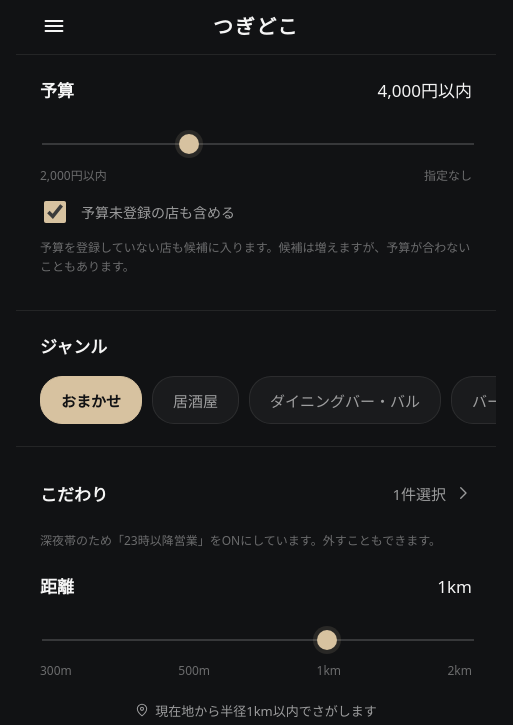
Test case: トップ画面 › 深夜帯の既定ONは外せる
Click the text "こだわり".
click(74, 493)  # box [40, 481, 108, 506]
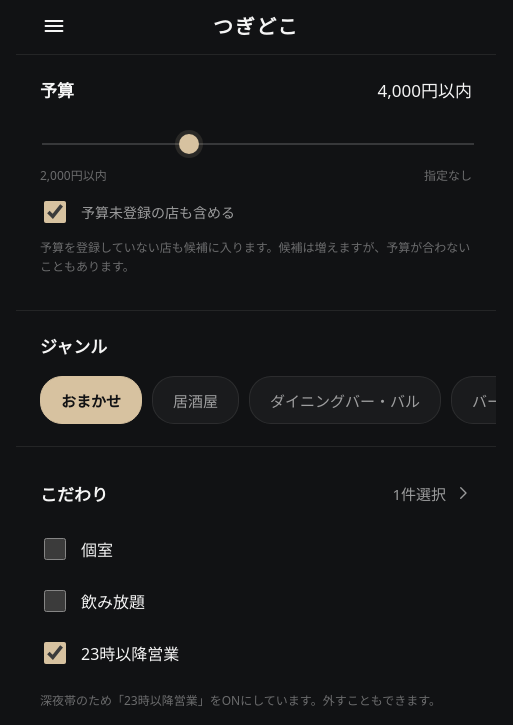
Click the checkbox labelled "23時以降営業".
click(55, 653)  # box [44, 642, 66, 664]
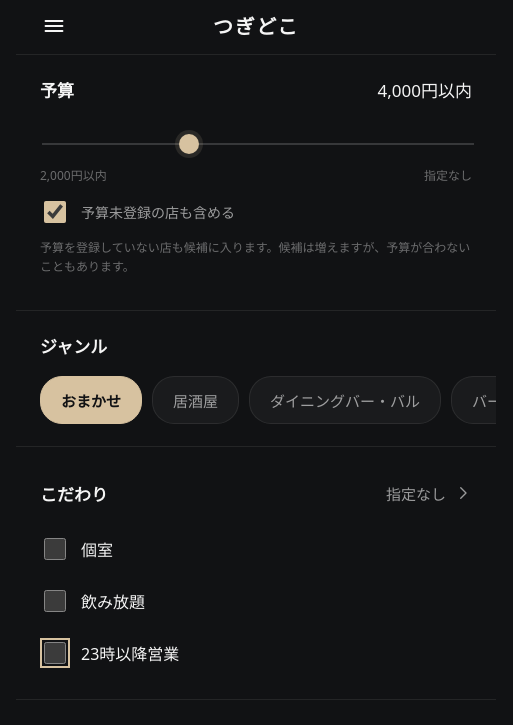
Expected: the checkbox labelled "23時以降営業" is not checked, [44, 642, 66, 664]
Expected: the text "深夜帯のため" is gone
